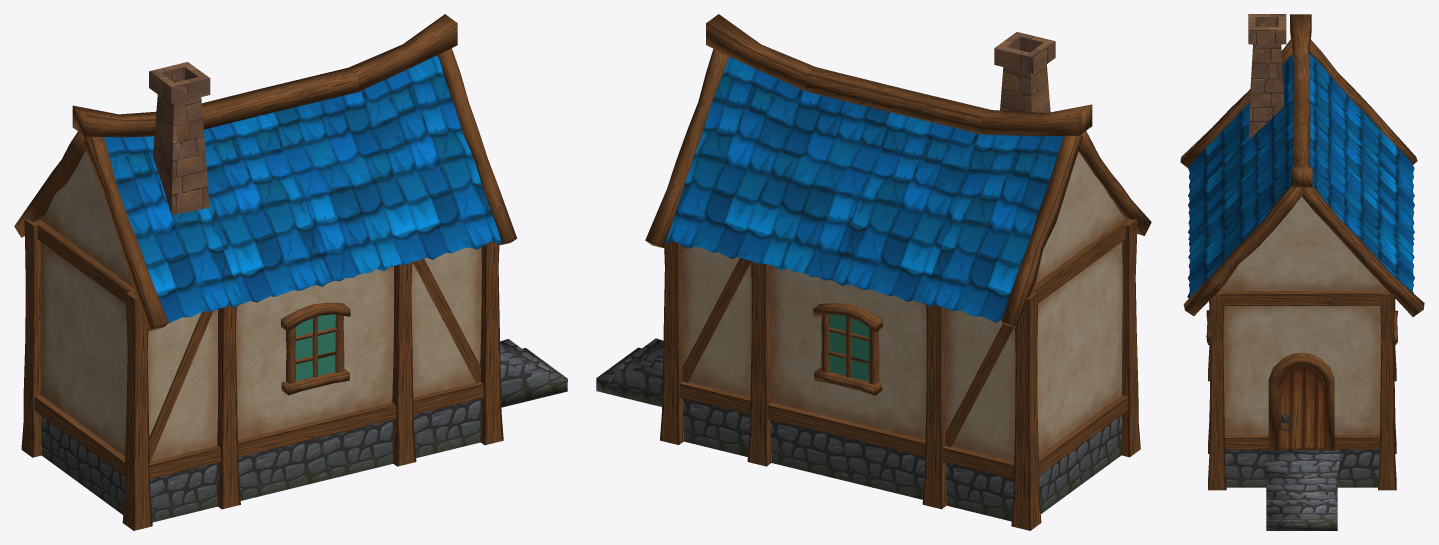
The model's file is house7_morph.fbx.
The picture shows the model from 3 angles, left to right: view 1: azimuth 30°, elevation 25°; view 2: azimuth 150°, elevation 25°; view 3: azimuth 270°, elevation 25°; orthographic projection. The views are drawn at different scales.
Visible parts, largest first — view 1: house7before; view 2: house7before; view 3: house7before.
Boxes of the visible parts, <box> form: house7before: <box>14,14,567,530</box>; house7before: <box>596,14,1151,530</box>; house7before: <box>1180,14,1424,530</box>.
Bounding box in the file's own units: 203 × 170 × 108.
Materials: 3 (2 with a texture image).
